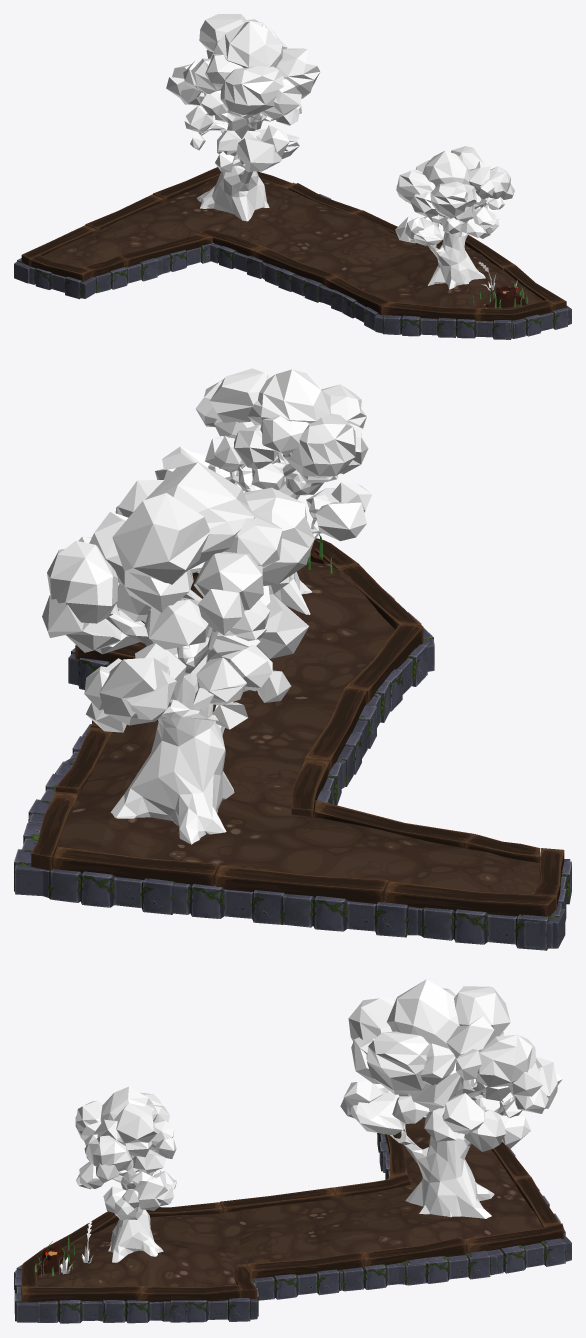
File: GardenSec1.fbx
The picture shows the model from 3 angles, top to bottom: view 1: azimuth 30°, elevation 25°; view 2: azimuth 150°, elevation 25°; view 3: azimuth 270°, elevation 25°; orthographic projection. The views are drawn at different scales.
Visible parts, largest first — view 1: plant.001; view 2: plant.001; view 3: plant.001.
Part boxes in pixels (x1=…): plant.001: x1=14, y1=14, x2=571, y2=339; plant.001: x1=14, y1=368, x2=571, y2=950; plant.001: x1=14, y1=979, x2=571, y2=1323.
Bounding box in the file's own units: 18.59 × 10.27 × 20.21.
9 materials, 3 textured.
